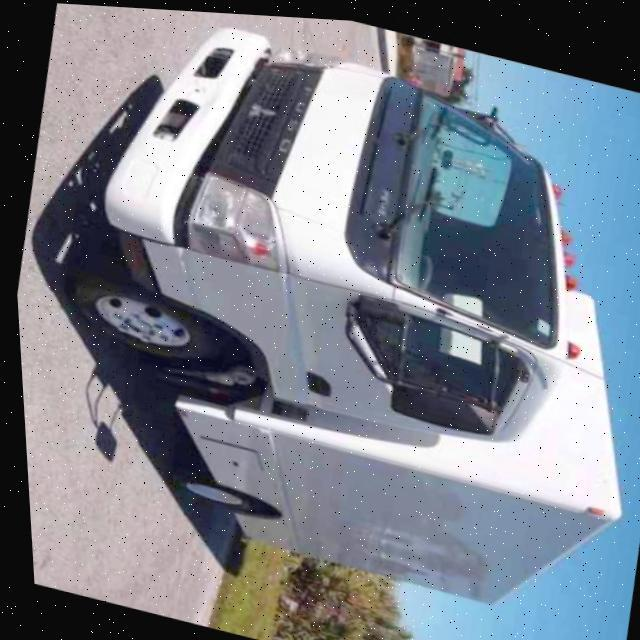truck: (17, 1, 640, 629)
